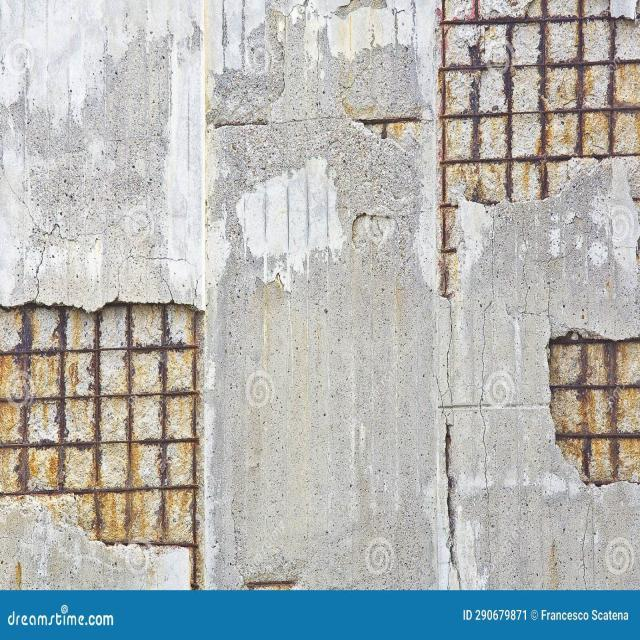spalling: (440, 6, 639, 298), (8, 301, 207, 583)
stain_mould: (1, 310, 195, 451)
